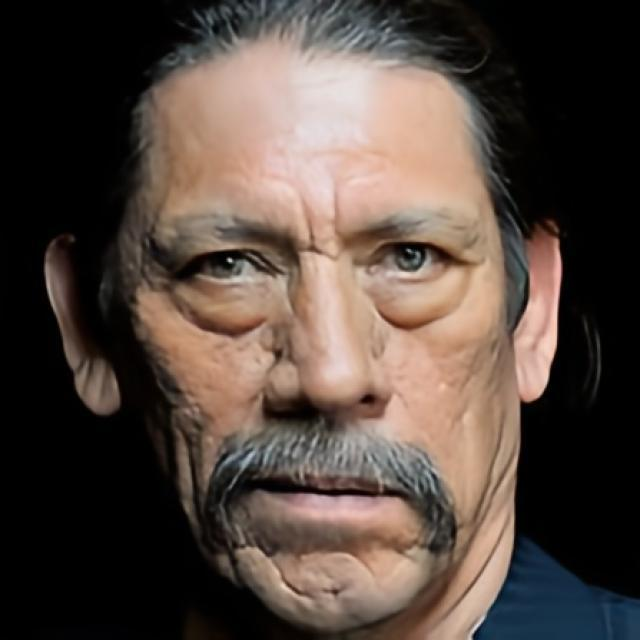anger: (128, 50, 512, 632)
